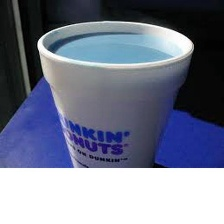paper_cup: (30, 16, 198, 167)
